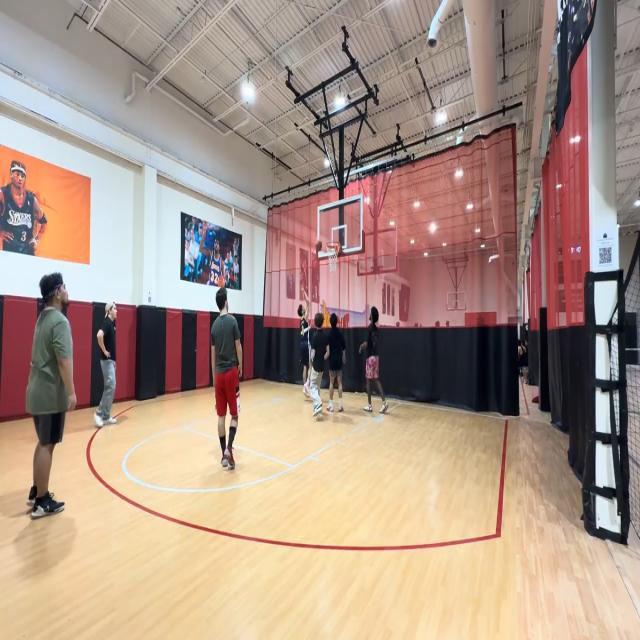Basketball: (316, 239, 322, 253)
Basketball Rim: (326, 239, 341, 275)
Player: (27, 274, 76, 515), (212, 289, 244, 471), (95, 303, 120, 431), (359, 307, 388, 417), (308, 310, 329, 416), (327, 311, 346, 414), (297, 277, 311, 384)
